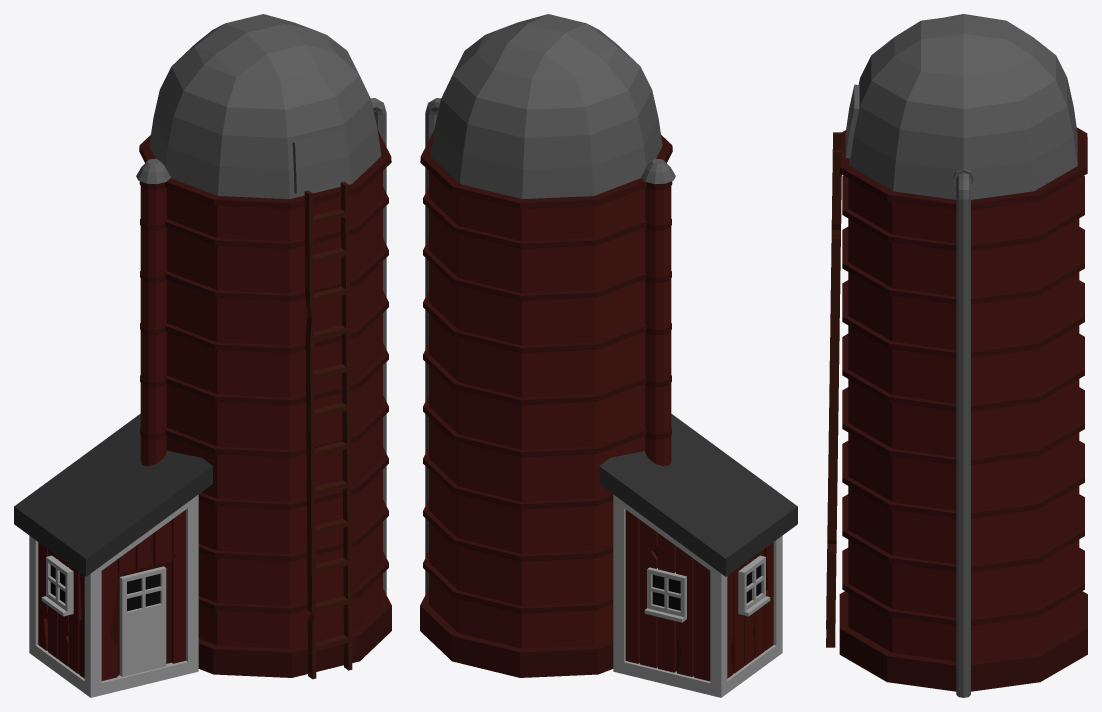
Rendered from Silo_House.fbx.
3 renders of one model, left to right at view 1: azimuth 30°, elevation 25°; view 2: azimuth 150°, elevation 25°; view 3: azimuth 270°, elevation 25°, orthographic. The views are drawn at different scales.
Visible parts, largest first — view 1: Silo_House; view 2: Silo_House; view 3: Silo_House.
Part boxes in pixels (x1,y1,x2,y2): Silo_House: [14, 14, 391, 697]; Silo_House: [420, 14, 797, 697]; Silo_House: [826, 14, 1087, 697].
Bounding box in the file's own units: 5.34 × 9.07 × 3.51.
